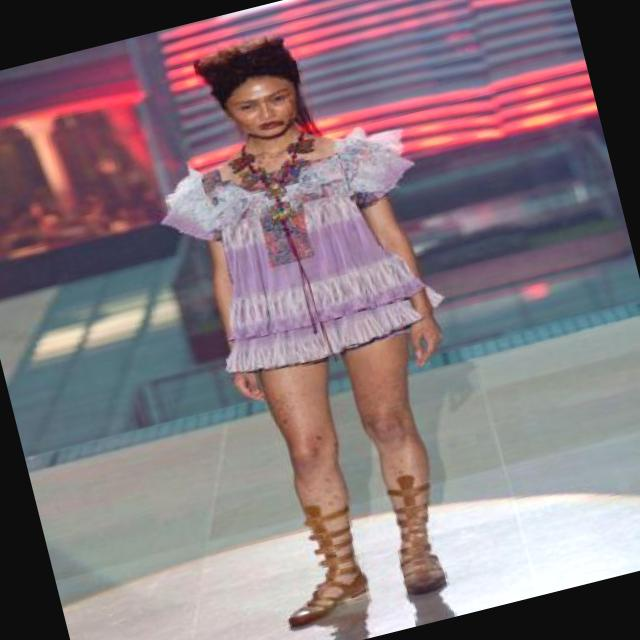Person: (132, 0, 522, 610)
